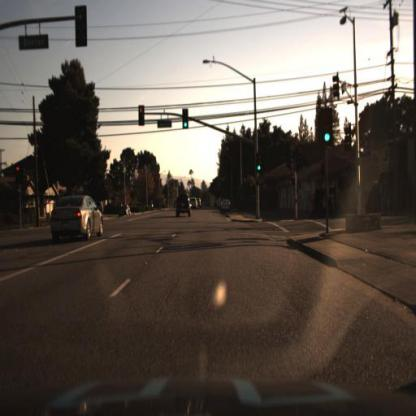car: (45, 193, 109, 240), (173, 193, 191, 220), (118, 203, 136, 219), (221, 197, 234, 215)
trafficLight-Green: (323, 106, 336, 149), (255, 153, 264, 181), (183, 108, 191, 130)
trafficLight-RedLeft: (139, 106, 147, 128)
